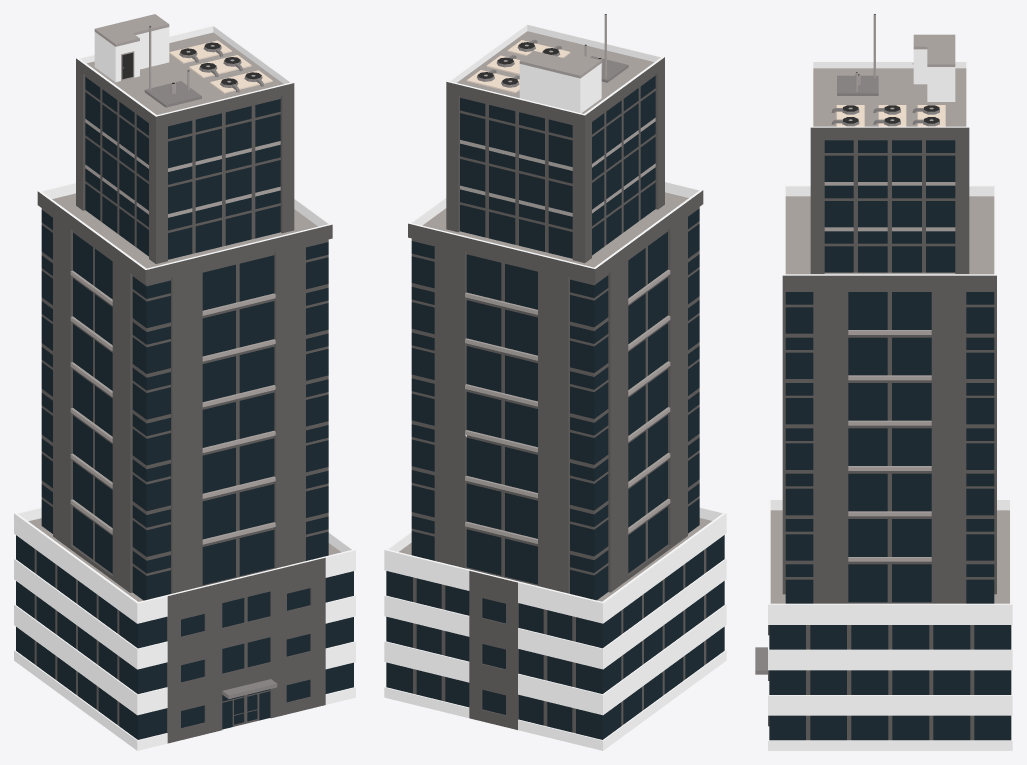
Rendered from building-office-pyramid.glb.
3 views of the same model, side by side, from view 1: azimuth 30°, elevation 25°; view 2: azimuth 150°, elevation 25°; view 3: azimuth 270°, elevation 25° (orthographic).
Parts seen in each view (by area): view 1: building-office-pyramid; view 2: building-office-pyramid; view 3: building-office-pyramid.
Boxes of the visible parts, x1,y1,x2,y2 form: building-office-pyramid: (14,14,355,750); building-office-pyramid: (384,14,726,750); building-office-pyramid: (755,14,1012,750).
Bounding box in the file's own units: 18 × 52.6 × 18.5.
Materials: 1 (1 with a texture image).
